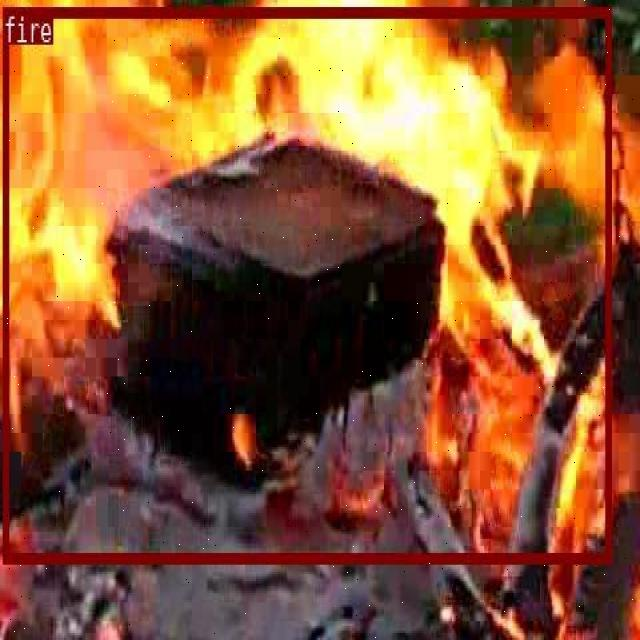fire: (2, 7, 610, 561)
